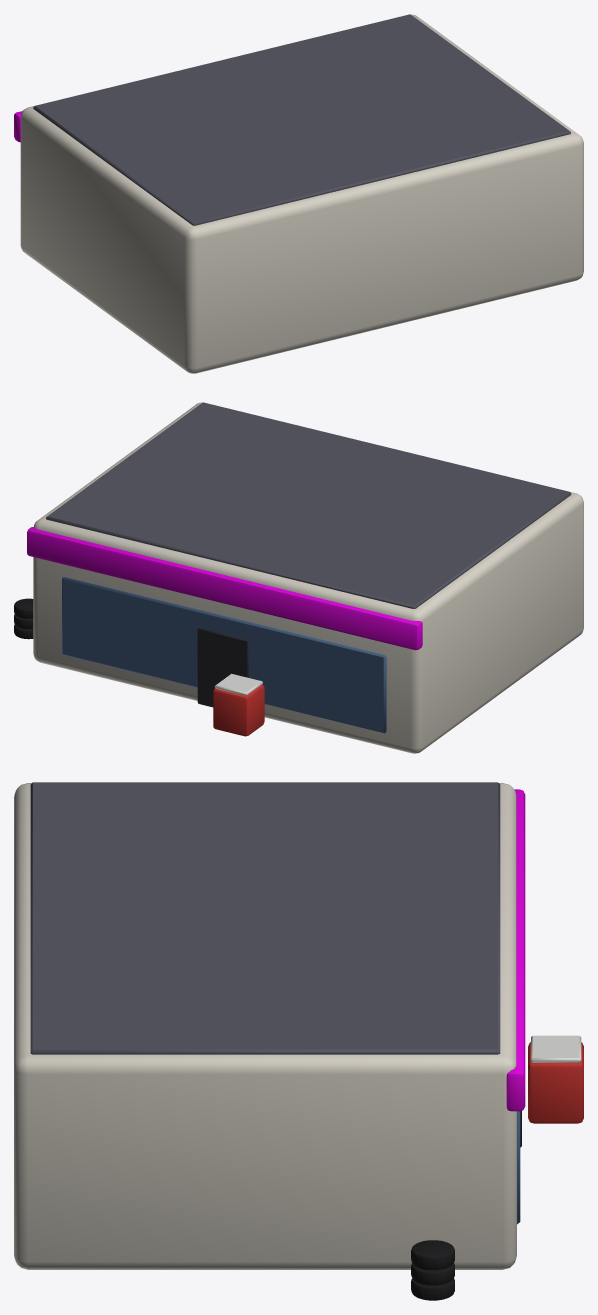
The model's file is Poi_Petrol.fbx.
The picture shows the model from 3 angles, top to bottom: view 1: azimuth 30°, elevation 25°; view 2: azimuth 150°, elevation 25°; view 3: azimuth 270°, elevation 25°; orthographic projection. The views are drawn at different scales.
Parts seen in each view (by area): view 1: Poi_Petrol; view 2: Poi_Petrol; view 3: Poi_Petrol.
Part boxes in pixels (box(x1,y1,x2,y2)): Poi_Petrol: box(14, 14, 583, 373); Poi_Petrol: box(14, 402, 583, 753); Poi_Petrol: box(14, 782, 583, 1300).
Bounding box in the file's own units: 13.34 × 4.28 × 10.2.
